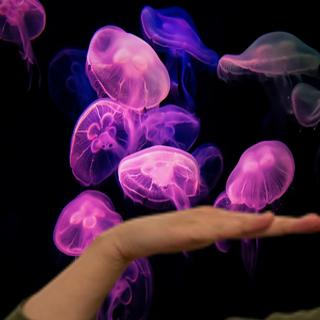WAIT: (107, 199, 320, 260)
